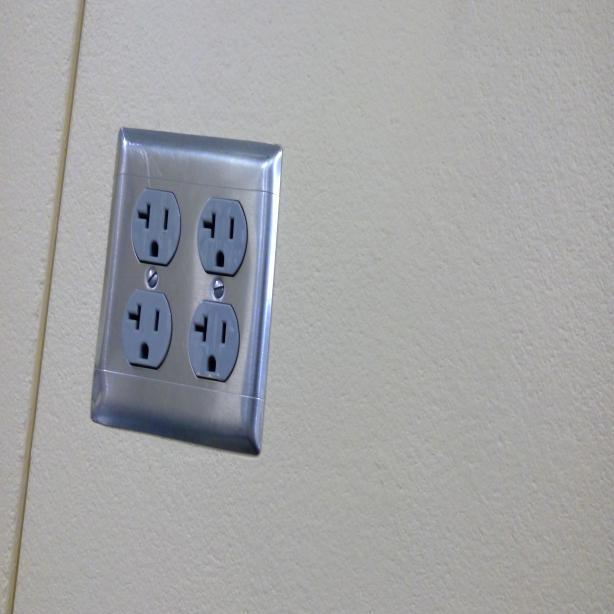typeb: (120, 289, 166, 366), (191, 294, 232, 378), (201, 202, 242, 277), (130, 194, 172, 260)
